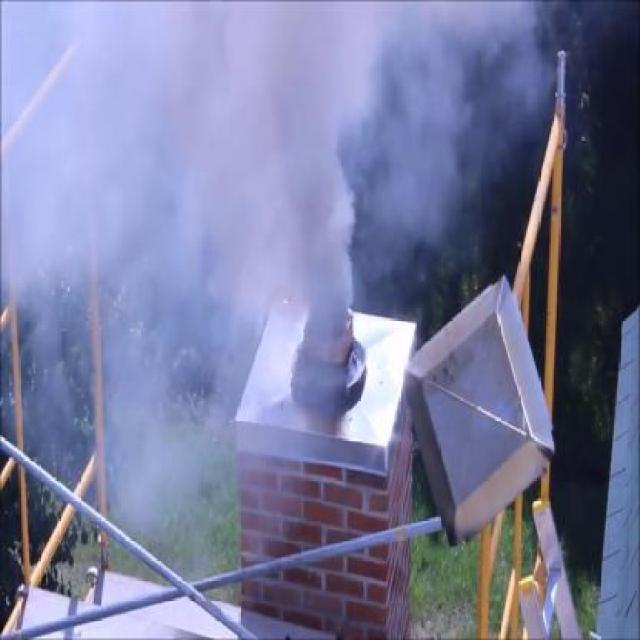smoke: (78, 66, 202, 483), (223, 12, 362, 310), (366, 21, 503, 242)
